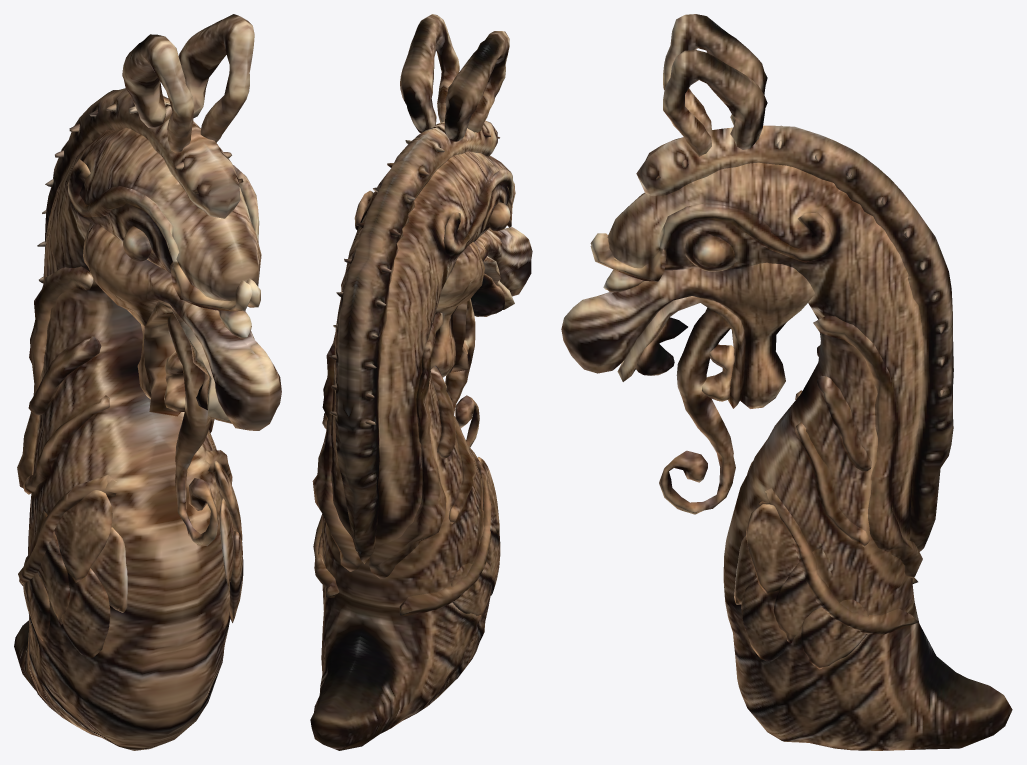
File: shipdragon.glb
The picture shows the model from 3 angles, left to right: view 1: azimuth 30°, elevation 25°; view 2: azimuth 150°, elevation 25°; view 3: azimuth 270°, elevation 25°; orthographic projection. The views are drawn at different scales.
Parts seen in each view (by area): view 1: model_961708875000.007; view 2: model_961708875000.007; view 3: model_961708875000.007.
Boxes of the visible parts, <box> form: model_961708875000.007: <box>14,14,281,750</box>; model_961708875000.007: <box>310,14,532,750</box>; model_961708875000.007: <box>561,14,1012,750</box>.
Bounding box in the file's own units: 42.06 × 155 × 88.67.
Materials: 1 (1 with a texture image).
